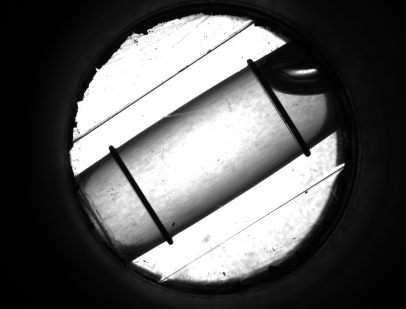line: (113, 164, 166, 222), (265, 101, 307, 135)
